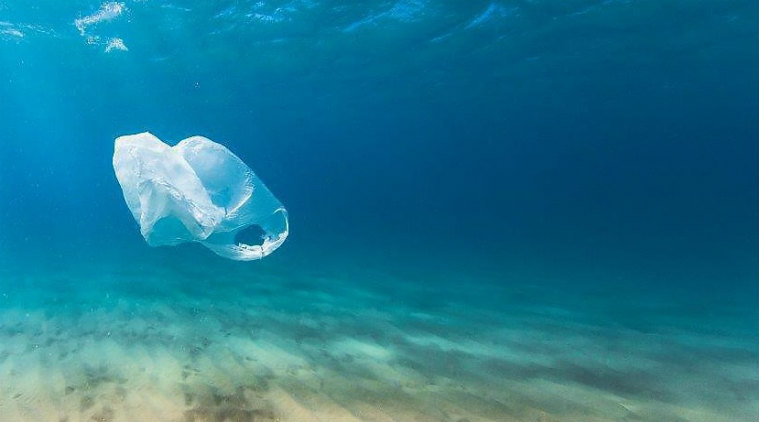litter: (107, 124, 311, 264)
